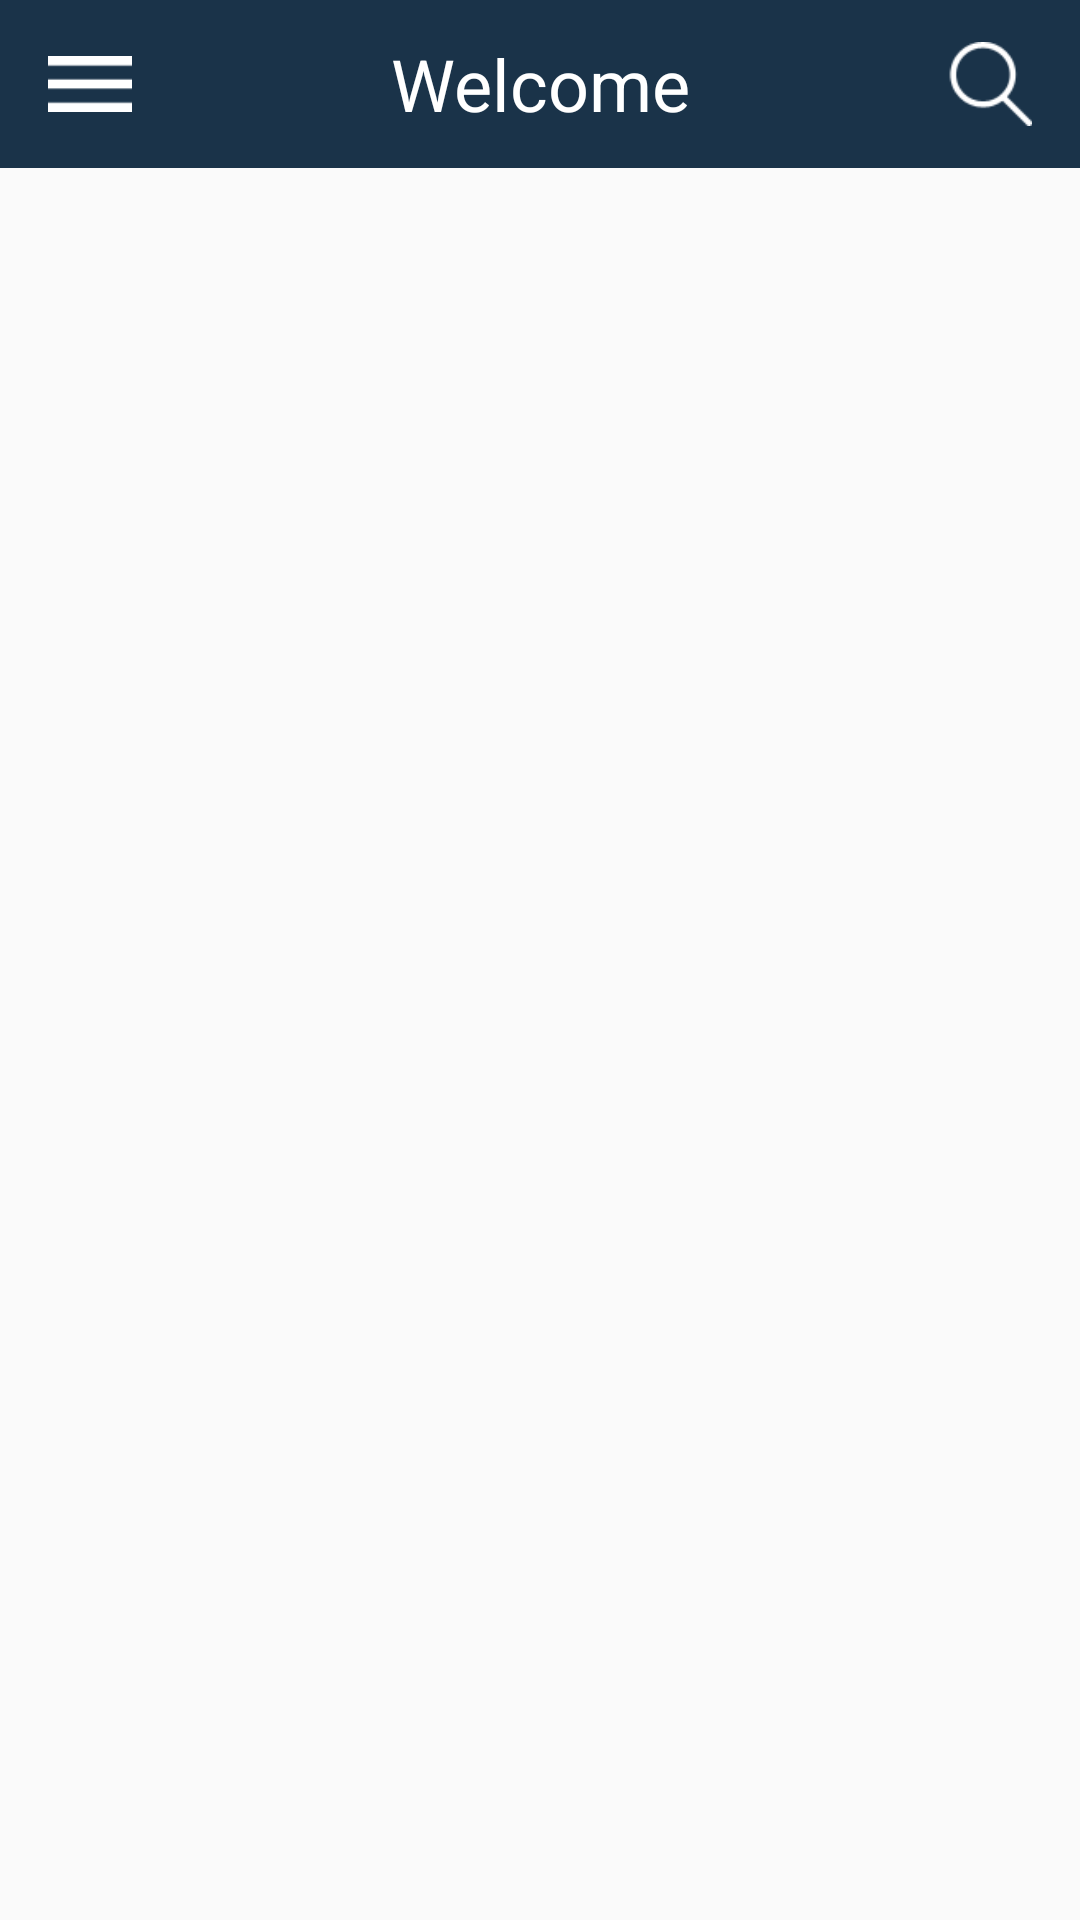

Icon bounding boxes for this 1080px x 1920px phone screenshot, format (left=x1, top=y1, right=x2, bottom=y2):
navigation: (left=48, top=56, right=132, bottom=112)
search: (left=949, top=42, right=1032, bottom=126)
